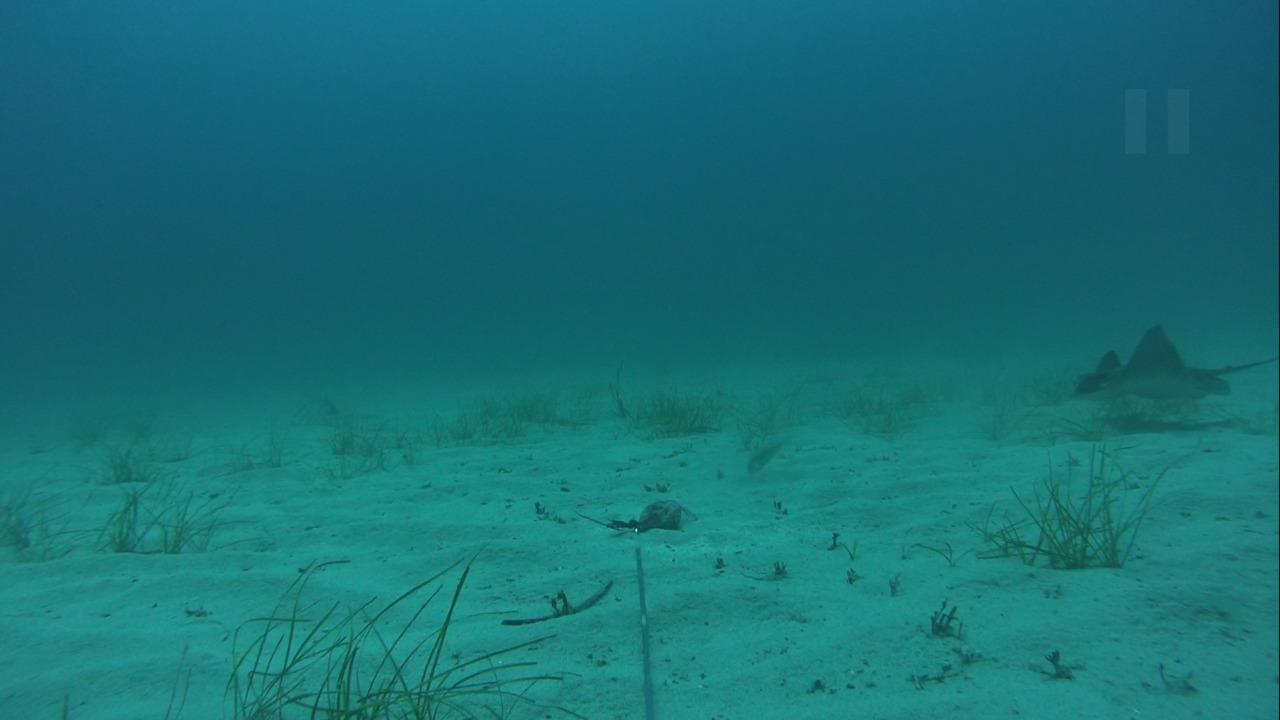myliobatis: (1067, 319, 1279, 407)
raor: (742, 429, 792, 478)
